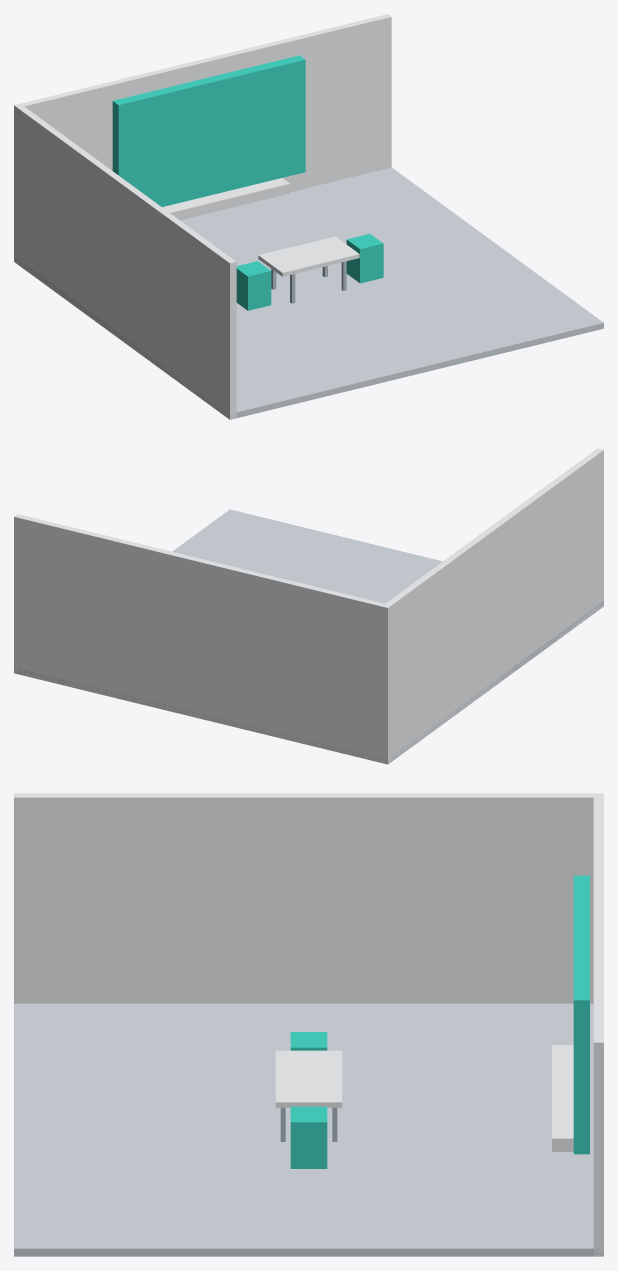
3 renders of one model, top to bottom at view 1: azimuth 30°, elevation 25°; view 2: azimuth 150°, elevation 25°; view 3: azimuth 270°, elevation 25°, orthographic. The views are drawn at different scales.
Parts seen in each view (by area): view 1: Exhibition Booth Concept; view 2: Exhibition Booth Concept; view 3: Exhibition Booth Concept.
Boxes of the visible parts, x1,y1,x2,y2 form: Exhibition Booth Concept: (14, 14, 603, 419); Exhibition Booth Concept: (14, 448, 603, 764); Exhibition Booth Concept: (14, 793, 603, 1256).
Size of the model in its own units: 8 by 3.2 by 8.
